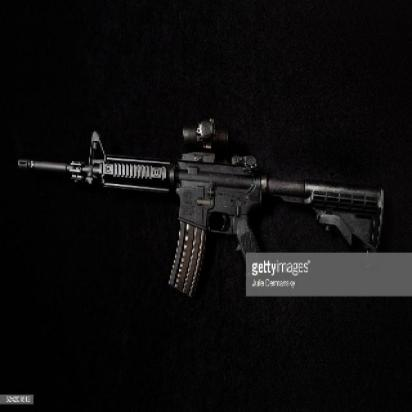Gun: (11, 107, 392, 296)
